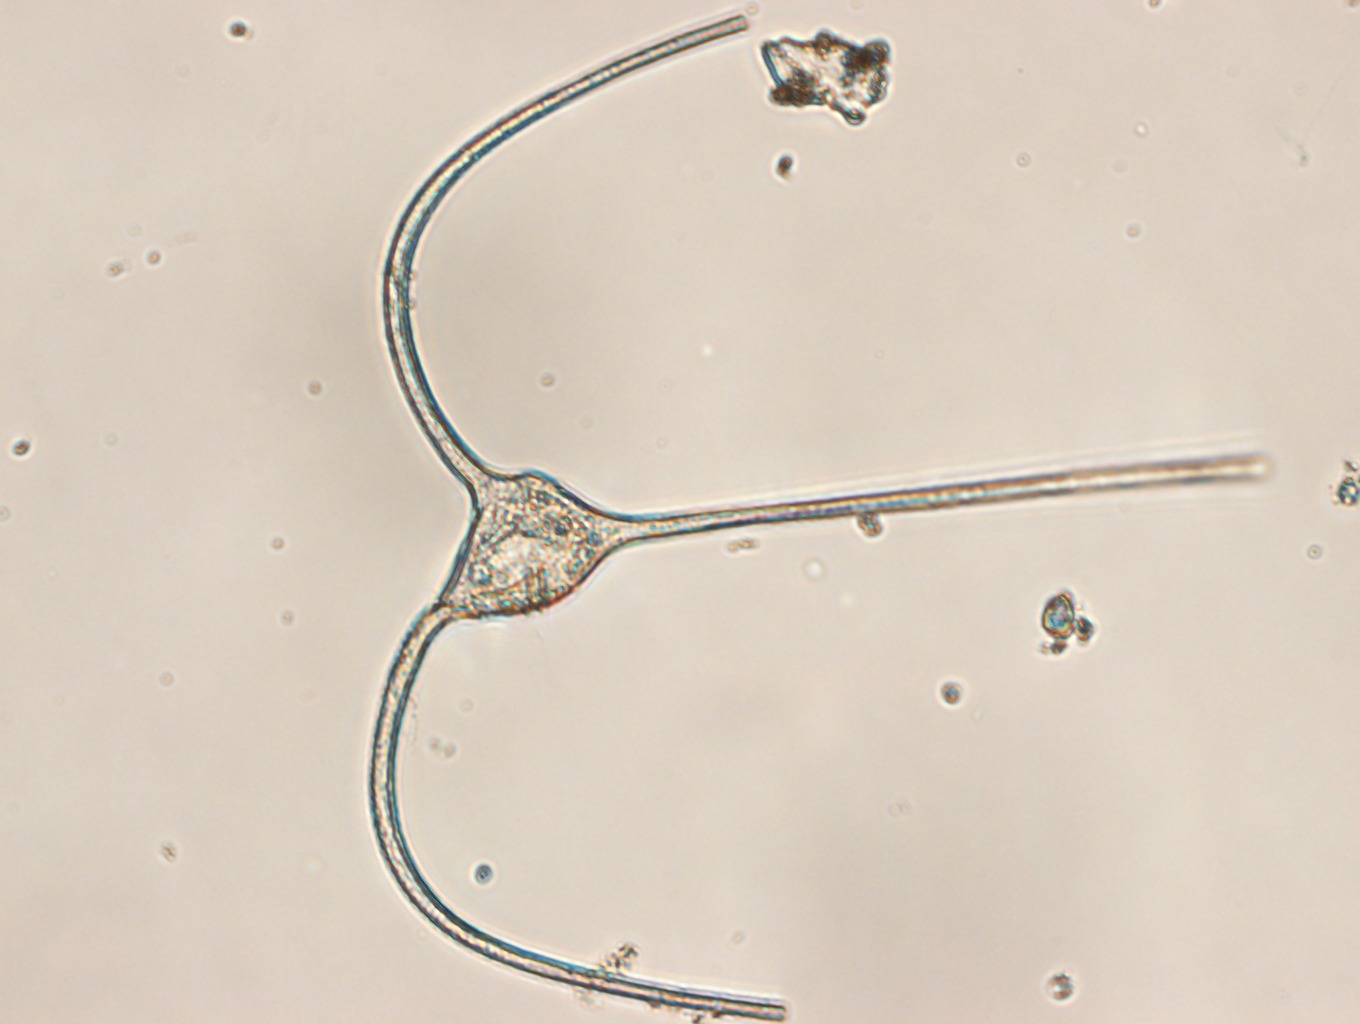ceratium trichoceros: (366, 12, 1274, 1024)
